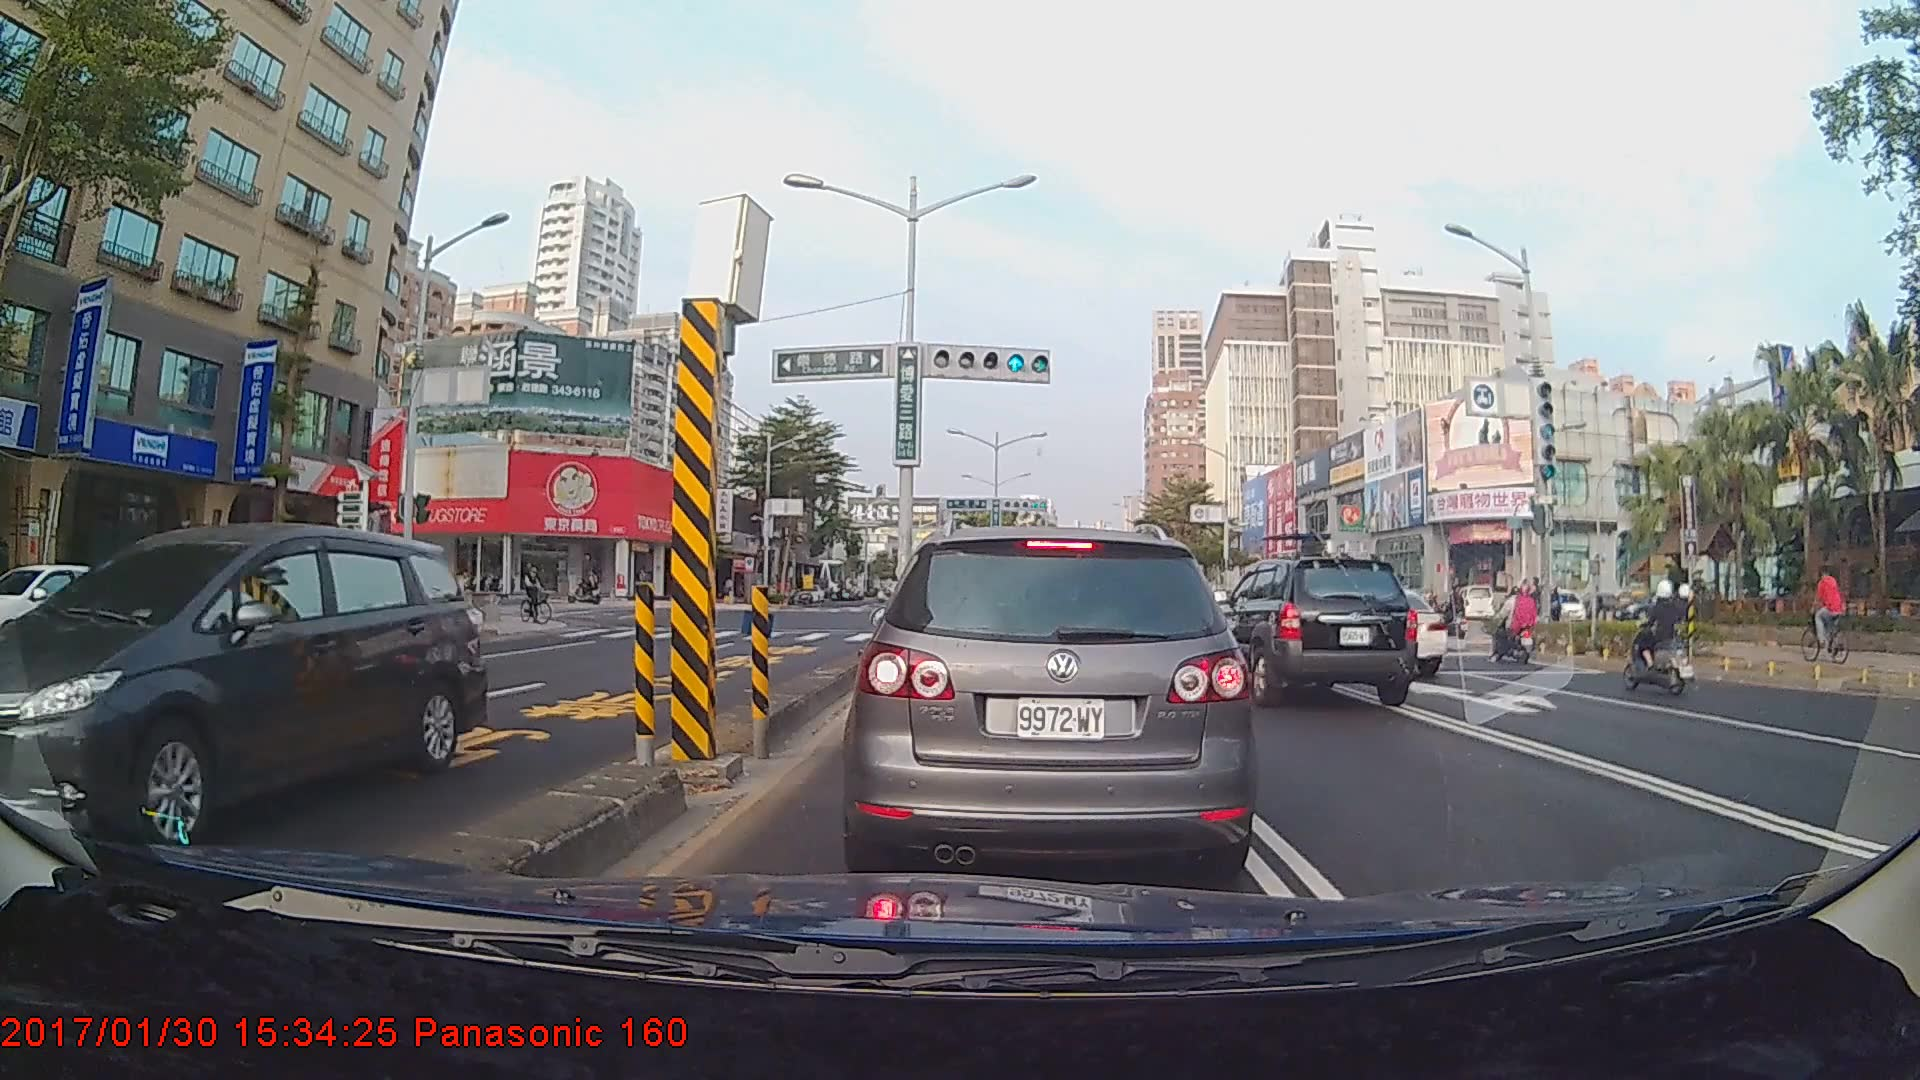pedestrian: (1585, 581, 1607, 640)
rider: (1625, 575, 1691, 704), (1485, 582, 1548, 668), (1795, 567, 1848, 661), (563, 563, 609, 611)
vehicle: (0, 520, 484, 864), (858, 523, 1243, 877), (1189, 549, 1420, 707)
